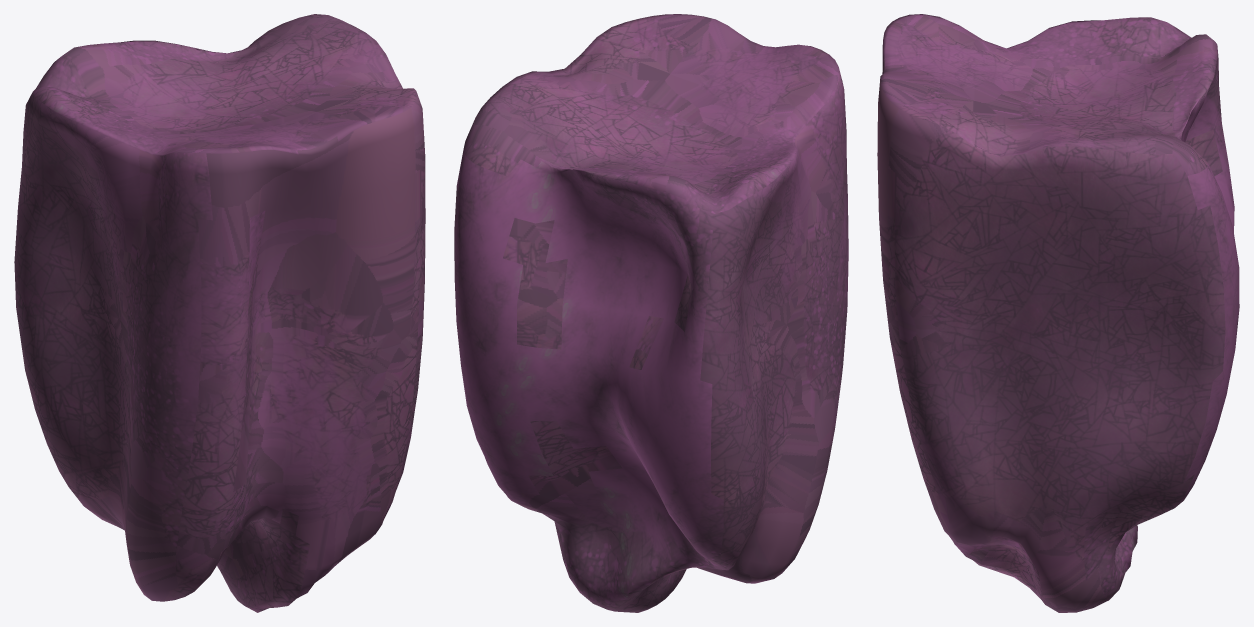
The model's file is low poly segunda parte definitivo5.fbx.
The picture shows the model from 3 angles, left to right: view 1: azimuth 30°, elevation 25°; view 2: azimuth 150°, elevation 25°; view 3: azimuth 270°, elevation 25°; orthographic projection. The views are drawn at different scales.
Parts seen in each view (by area): view 1: ROCA 3; view 2: ROCA 3; view 3: ROCA 3.
Boxes of the visible parts, box(x1,y1,x2,y2) form: ROCA 3: box(14, 14, 425, 612); ROCA 3: box(454, 14, 848, 612); ROCA 3: box(877, 14, 1239, 612).
Size of the model in its own units: 180 by 308 by 189.
